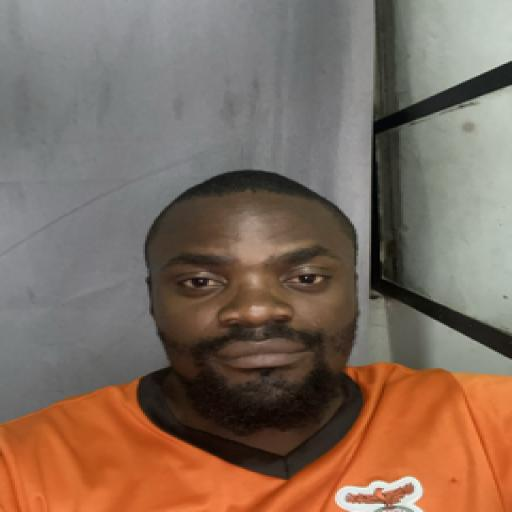JEANLUC: (143, 157, 366, 431)
